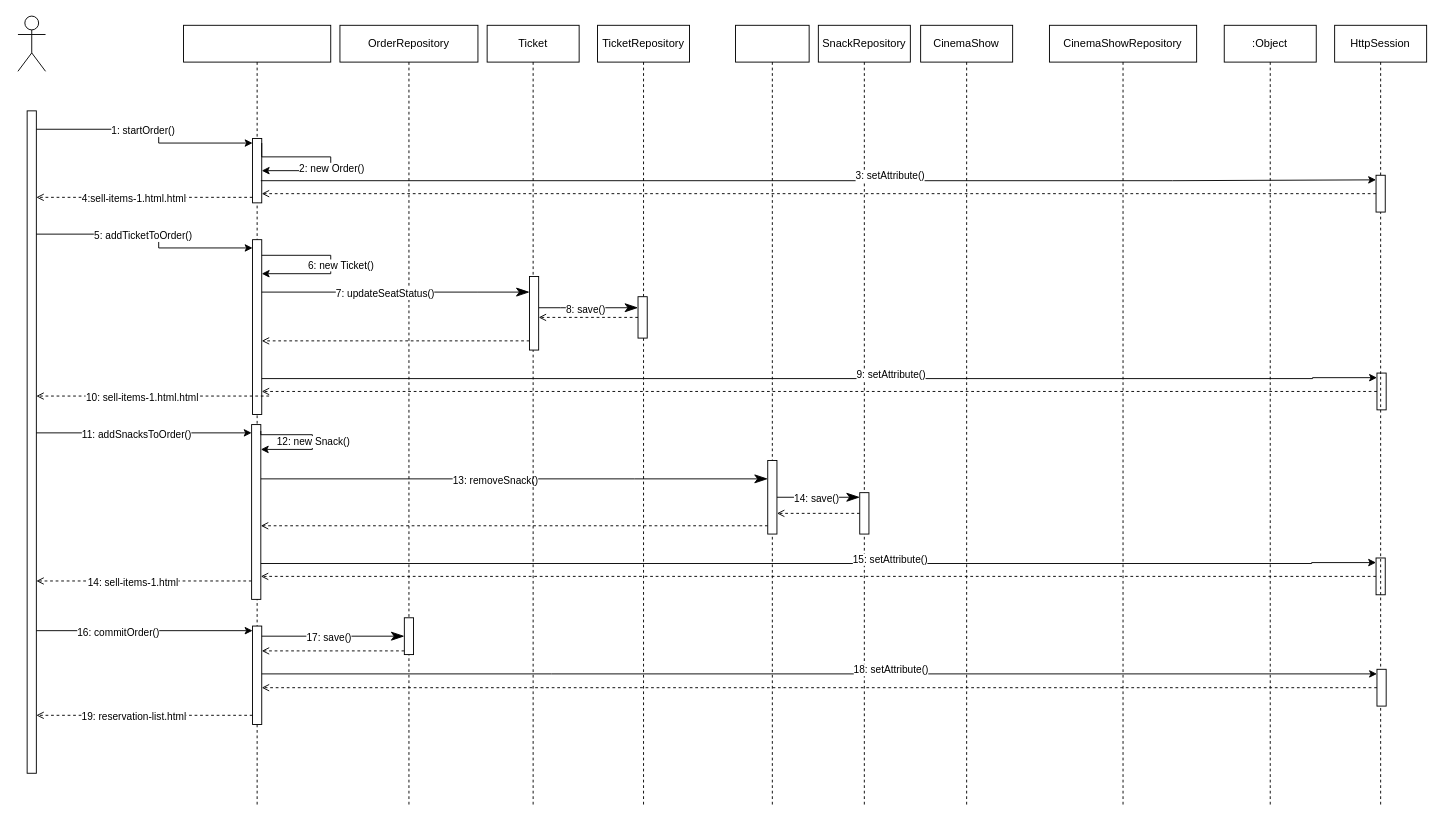
Image size: 1443x823. Some labels were removed from this diagram. The box of each missing label's shape, as (x1, y1, x2, y2) in pixels:
MakeOrderController: (183, 24, 331, 807)
Nutzer: (17, 15, 46, 71)
Snacks: (735, 24, 809, 807)
